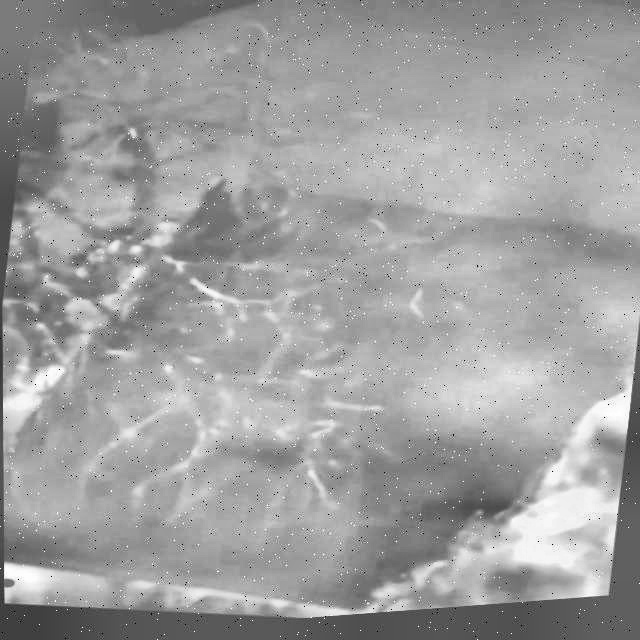Fire: (354, 316, 638, 619), (1, 192, 191, 580)
Smoke: (227, 0, 640, 255)
